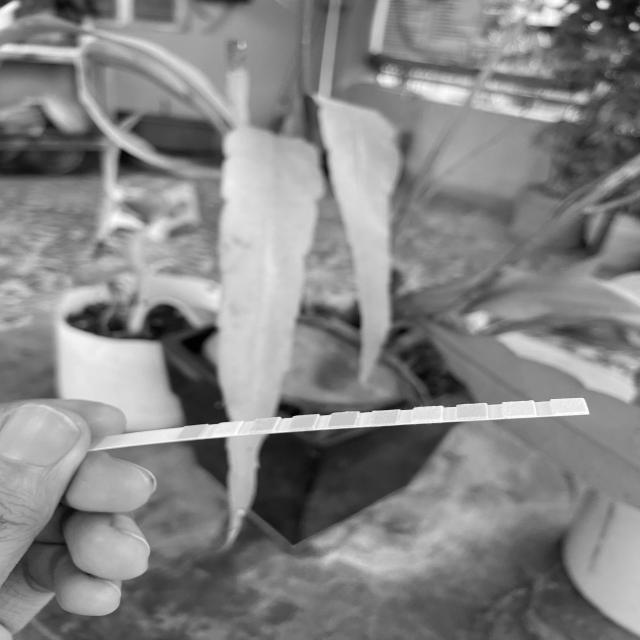Bilirubin: (221, 423, 236, 434)
Blood: (332, 414, 354, 426)
Glucose: (184, 428, 198, 438)
Ketone: (256, 418, 273, 430)
Leukocytes: (552, 399, 585, 413)
Nitrite: (504, 402, 534, 415)
Protein: (414, 408, 442, 421)
SpGravity: (294, 416, 314, 428)
Urobilinogen: (457, 405, 487, 418)
background: (0, 0, 640, 640)
pH: (373, 411, 397, 423)
strip: (96, 399, 590, 450)
